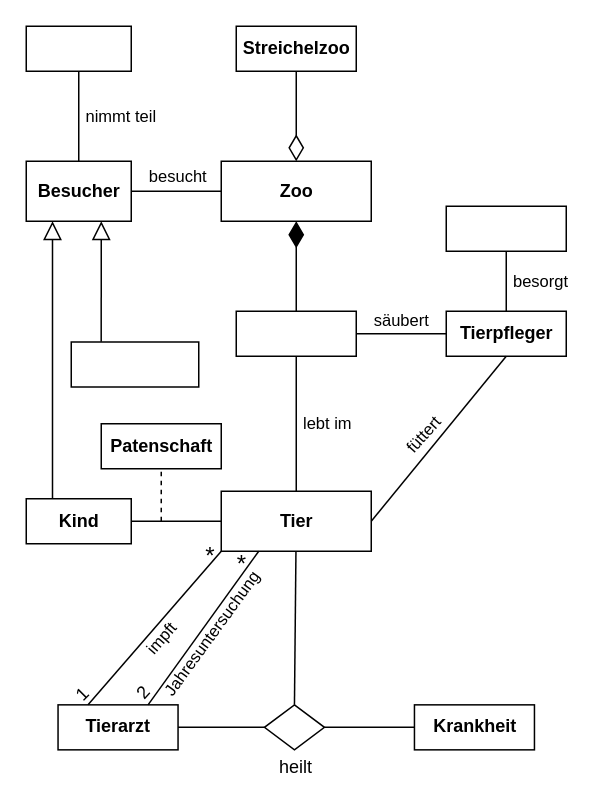
Some shapes in this 596 by 810 pixel diagram are drawn without their labels. Each missing label, with the centre of its shape:
"Erwachsener" belongs at point 134,363.
"Futter" belongs at point 505,228.
"Fütterung" belongs at point 78,48.
"Gehege" belongs at point 295,333.
